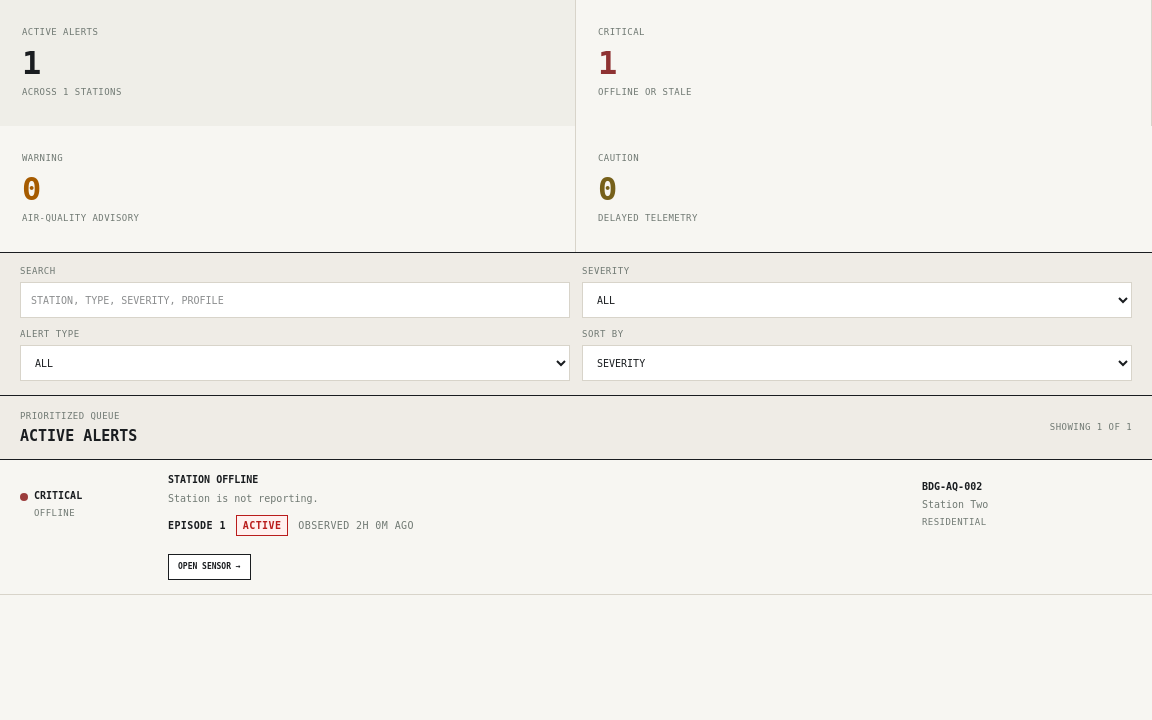
Scenario: Alerts search debounce › filters locally before updating the URL
Expected: the text "Station offline" is shown, [168,474,258,485]
Type "not-found" into the field with placeholder "Station, type, severity, profile".
click(295, 300); type("not-found")  # box [20,282,570,318]
Wait 300 ms
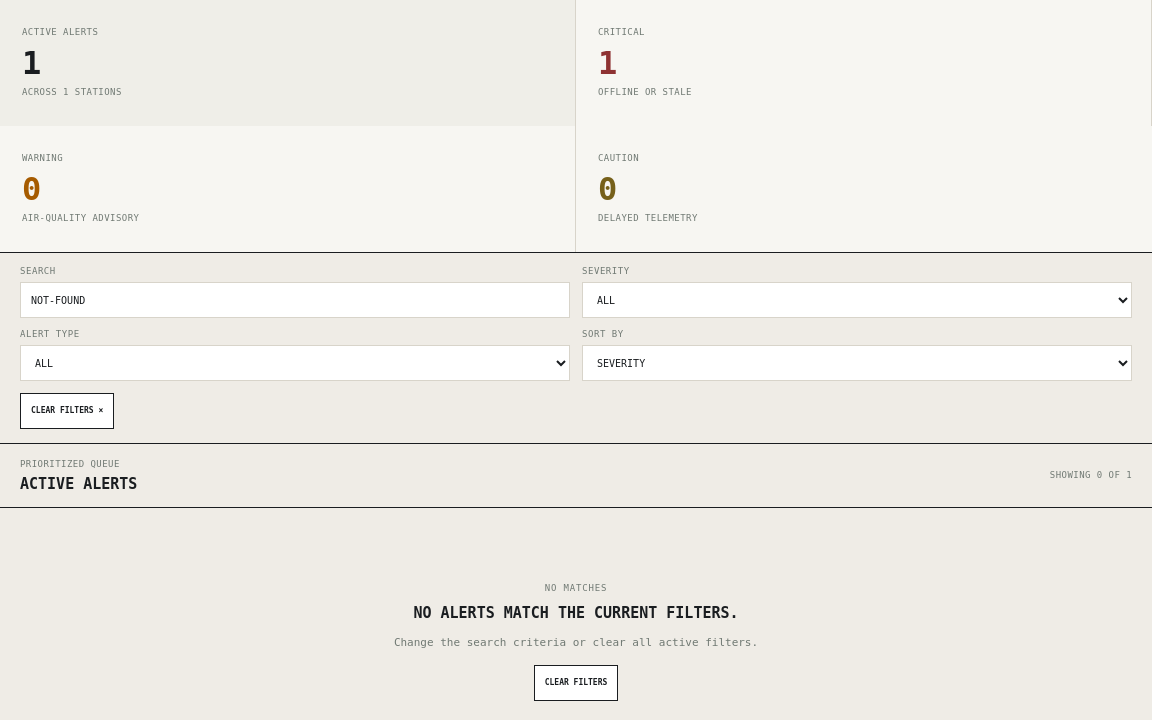
Expected: the text "Station offline" is gone
Expected: the heading "No alerts match the current filters." is shown, [413,606,738,622]
